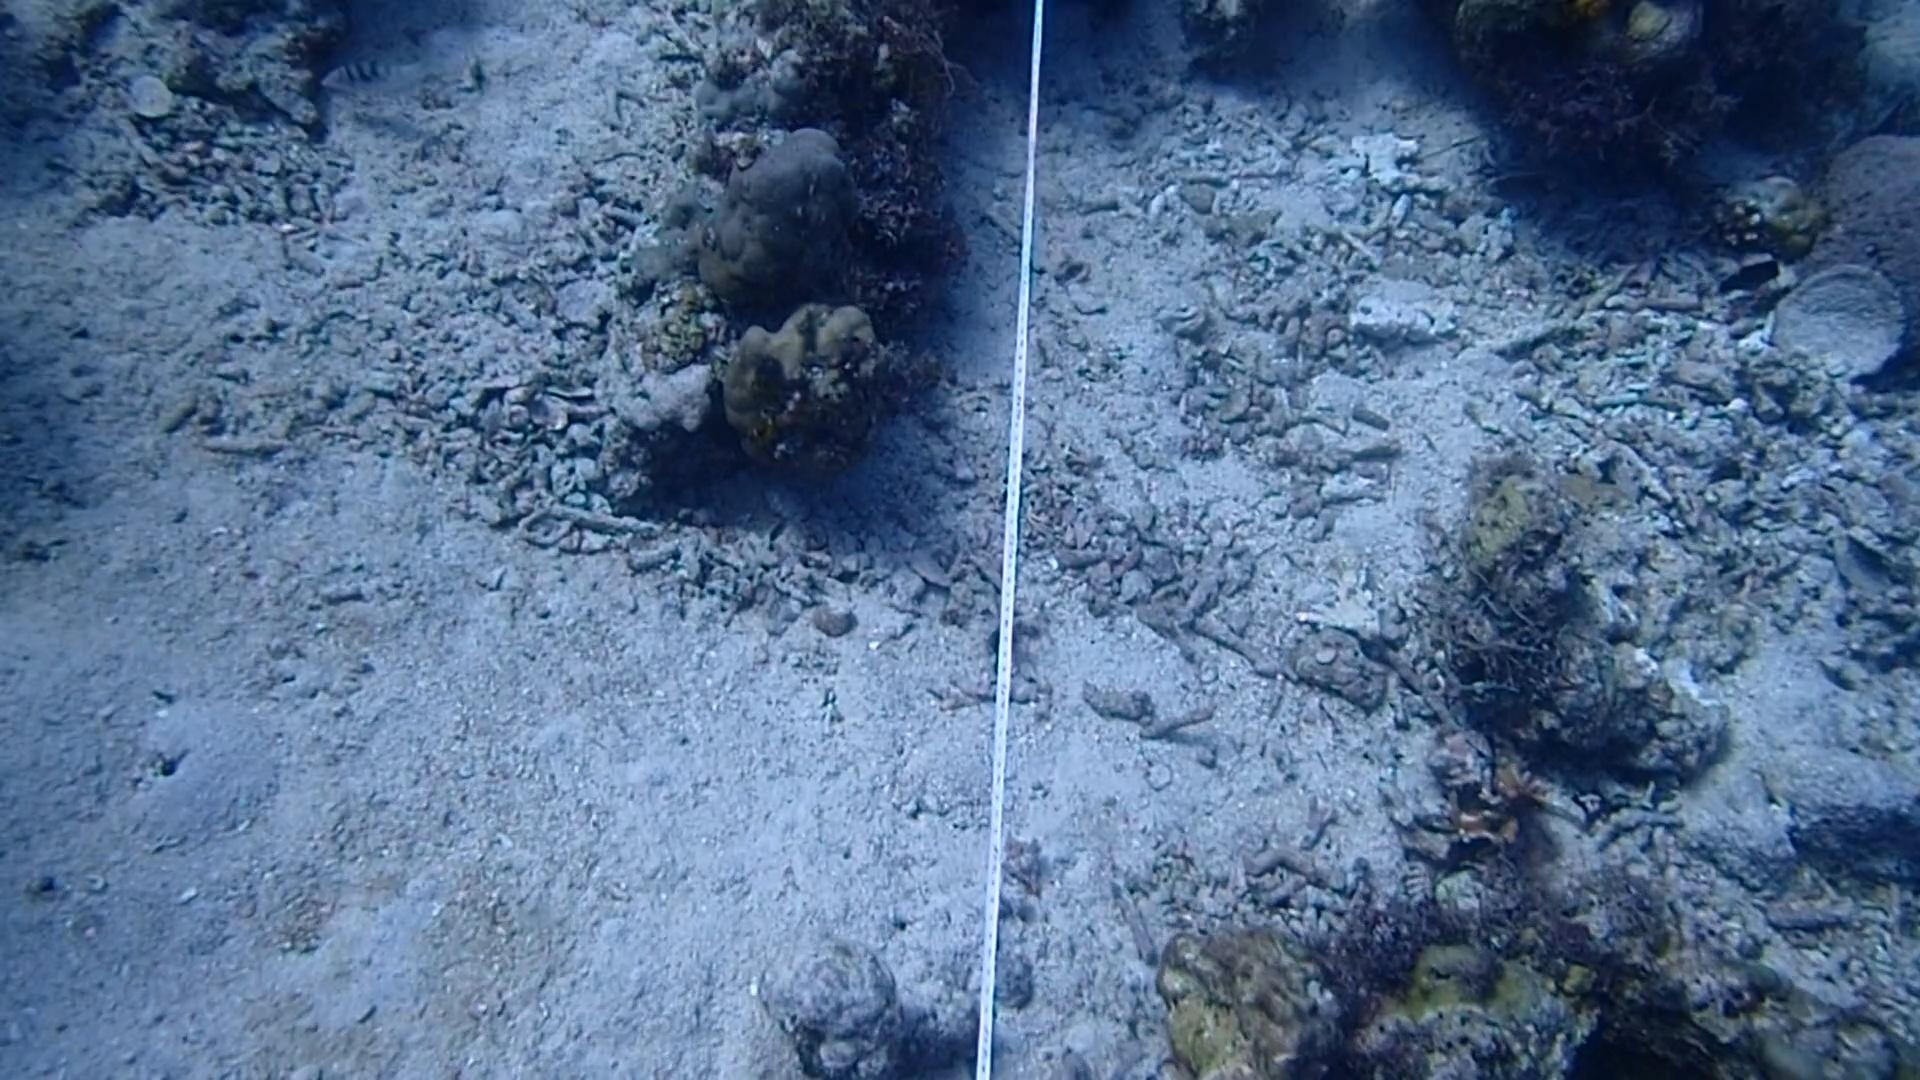Dark Fish: (1701, 248, 1782, 305)
